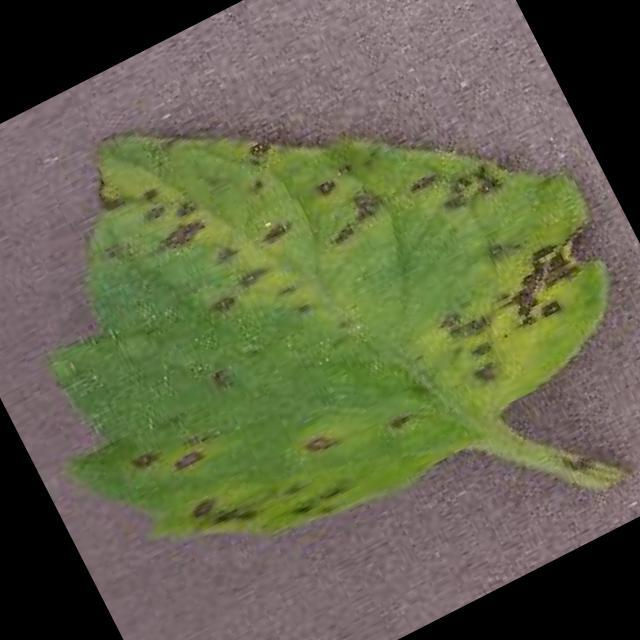Tomato Septoria spot leaf: (0, 0, 640, 621)
